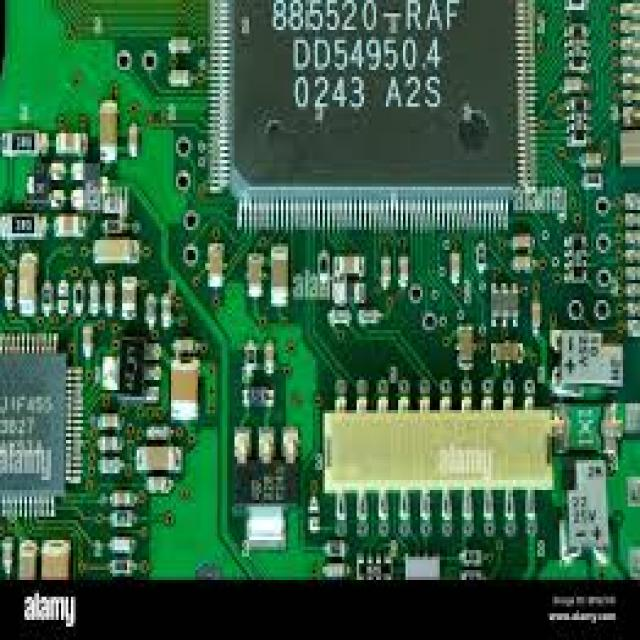pcb: (0, 0, 638, 587), (207, 0, 532, 233)
